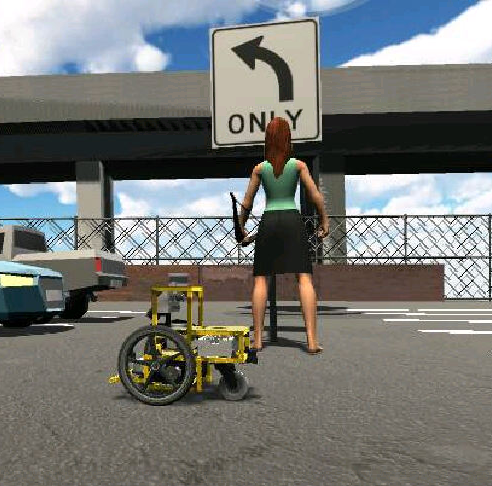arrow_left: (230, 35, 306, 106)
